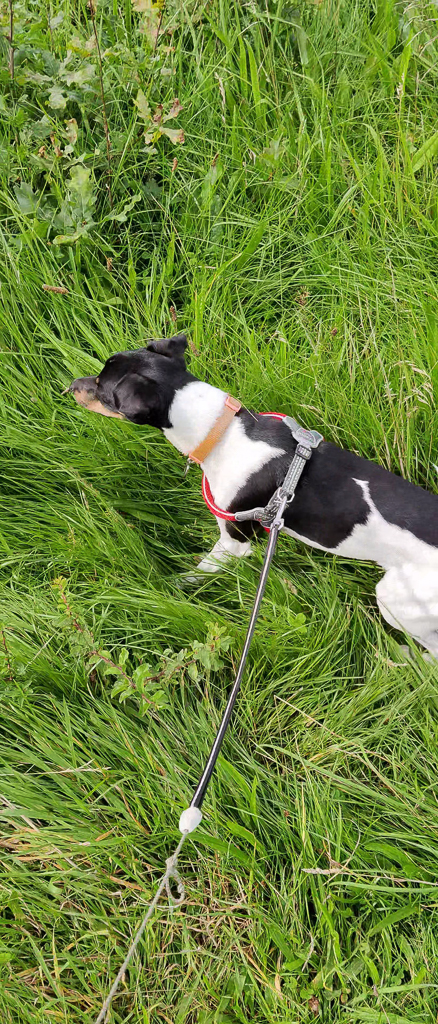Dog: (42, 307, 438, 703)
